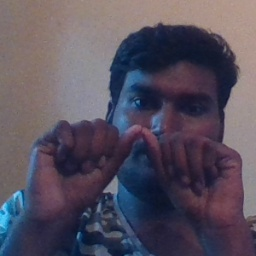A: (60, 115, 217, 212)
